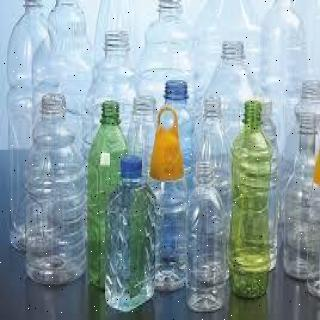Plastic-bottle: (25, 91, 88, 289), (6, 1, 52, 256), (228, 100, 274, 302), (106, 154, 160, 316), (86, 93, 129, 292), (152, 105, 190, 295), (279, 110, 320, 283), (189, 159, 229, 316), (139, 1, 196, 101), (32, 1, 95, 91), (263, 1, 313, 90), (283, 76, 320, 186), (96, 28, 139, 105), (208, 37, 264, 96), (193, 98, 233, 156)
